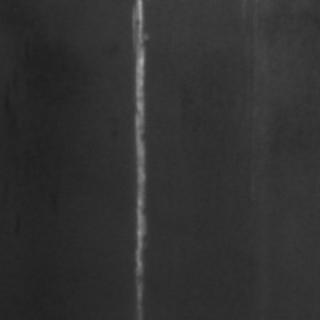scratches: (125, 0, 153, 316)
